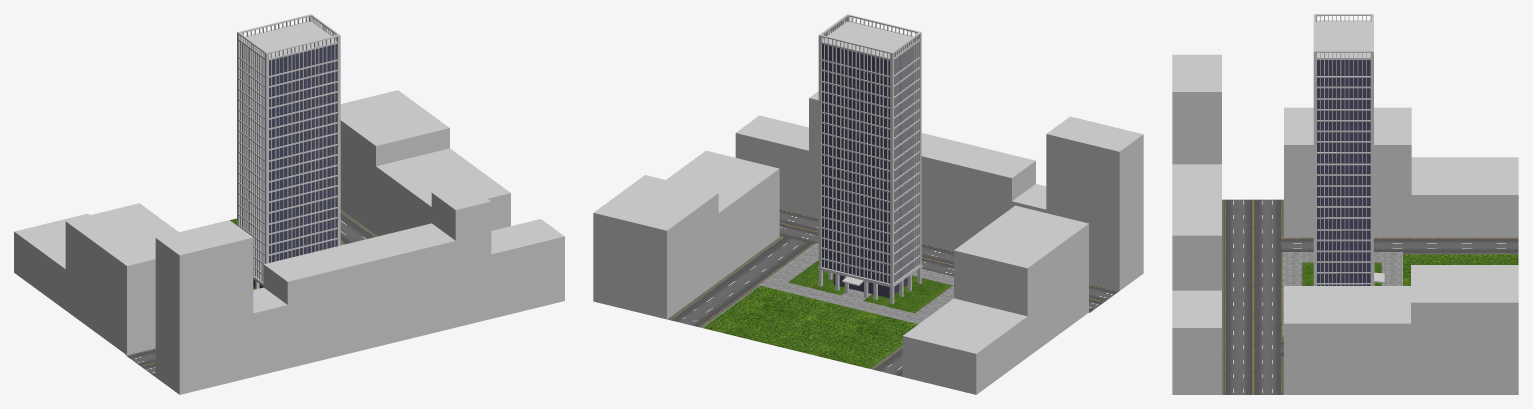
Rendered from grattacielo_completo.fbx.
The picture shows the model from 3 angles, left to right: view 1: azimuth 30°, elevation 25°; view 2: azimuth 150°, elevation 25°; view 3: azimuth 270°, elevation 25°; orthographic projection. The views are drawn at different scales.
Visible parts, largest first — view 1: base, tettoia_3, vetri1; view 2: base, tettoia_3, vetri1, base_vetrata; view 3: base, vetri1, tettoia_3.
Boxes of the visible parts, bbox=[...] form: base: bbox=[14, 90, 564, 394]; tettoia_3: bbox=[237, 14, 340, 289]; vetri1: bbox=[240, 42, 336, 281]; base: bbox=[593, 91, 1143, 394]; tettoia_3: bbox=[818, 14, 921, 304]; vetri1: bbox=[822, 43, 916, 283]; base_vetrata: bbox=[833, 273, 907, 297]; base: bbox=[1172, 54, 1518, 394]; vetri1: bbox=[1317, 60, 1370, 285]; tettoia_3: bbox=[1313, 14, 1384, 285].
Size of the model in its own units: 1533 by 967 by 1149.
4 materials, 2 textured.
